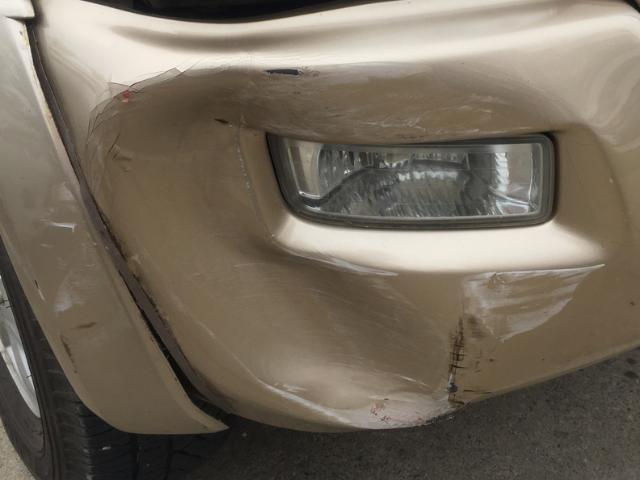Bumper: (45, 0, 640, 443)
